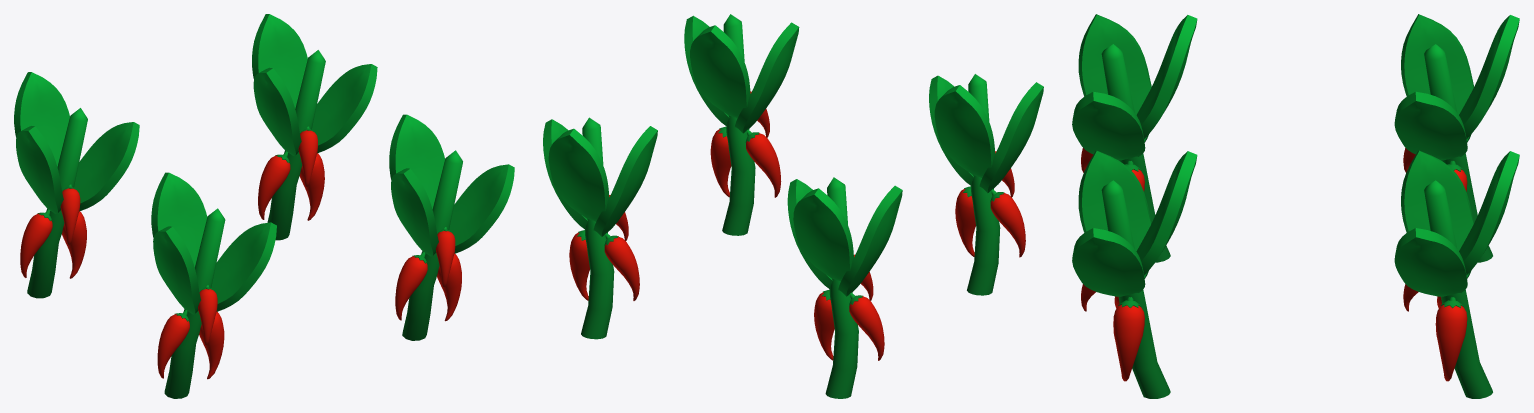
File: Farm_Crop_Chili_Step_03.fbx
3 views of the same model, side by side, from view 1: azimuth 30°, elevation 25°; view 2: azimuth 150°, elevation 25°; view 3: azimuth 270°, elevation 25° (orthographic). The views are drawn at different scales.
Parts seen in each view (by area): view 1: Farm_Crop_Chili_Step_03; view 2: Farm_Crop_Chili_Step_03; view 3: Farm_Crop_Chili_Step_03.
Boxes of the visible parts, box(x1,y1,x2,y2) form: Farm_Crop_Chili_Step_03: box(14, 14, 514, 398); Farm_Crop_Chili_Step_03: box(543, 14, 1043, 398); Farm_Crop_Chili_Step_03: box(1072, 14, 1519, 398).
Size of the model in its own units: 146 by 84.46 by 139.
